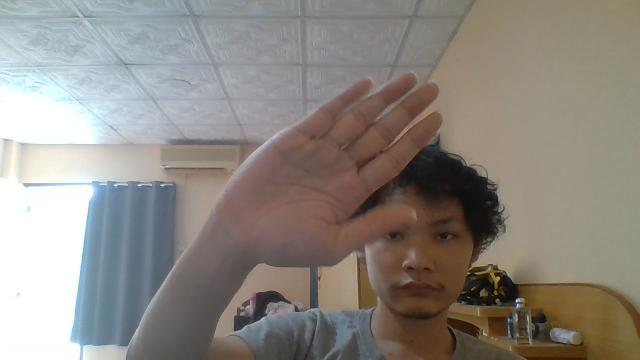Stop: (228, 77, 424, 260)
